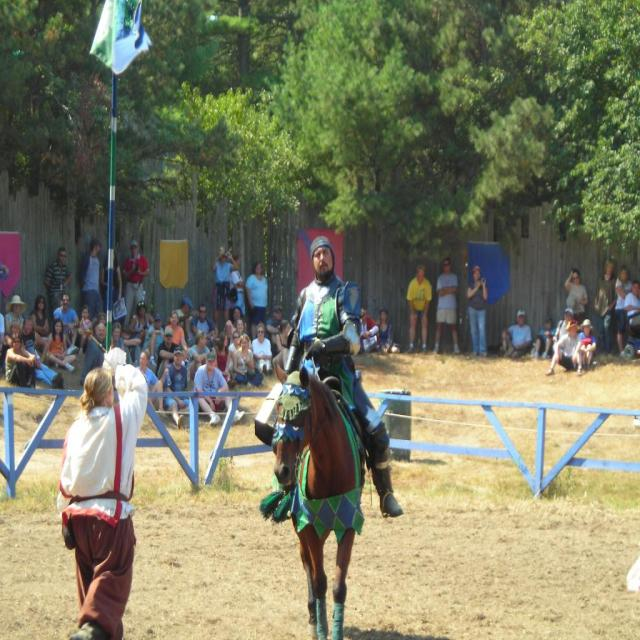Horse: (259, 361, 365, 640)
